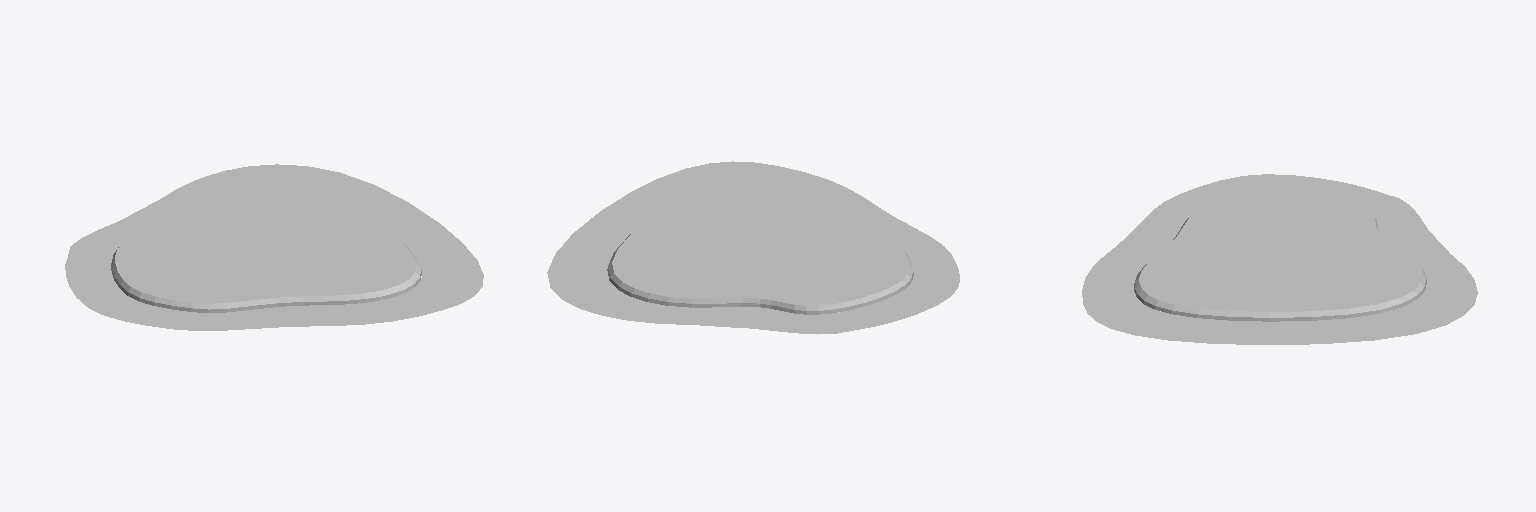
3 views of the same model, side by side, from view 1: azimuth 30°, elevation 25°; view 2: azimuth 150°, elevation 25°; view 3: azimuth 270°, elevation 25° (orthographic).
Parts seen in each view (by area): view 1: 5_Curve.002, 7_foam_Curve.002; view 2: 5_Curve.002, 7_foam_Curve.002; view 3: 5_Curve.002, 7_foam_Curve.002.
Boxes of the visible parts, <box> form: 5_Curve.002: <box>111,184,421,312</box>; 7_foam_Curve.002: <box>65,164,483,330</box>; 5_Curve.002: <box>607,183,913,314</box>; 7_foam_Curve.002: <box>547,161,959,334</box>; 5_Curve.002: <box>1134,189,1426,321</box>; 7_foam_Curve.002: <box>1082,174,1477,344</box>.
Size of the model in its own units: 47.93 by 0.9966 by 46.88.